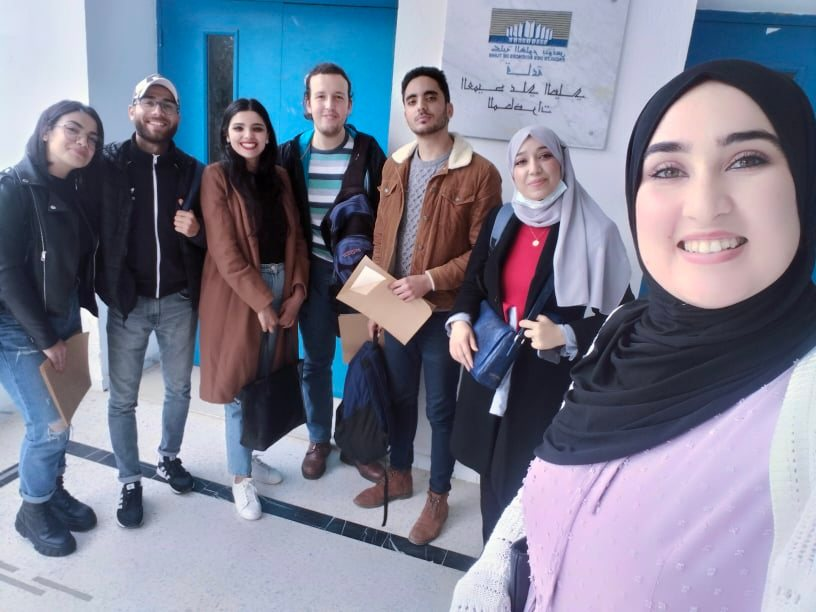mask_weared_incorrect: (506, 142, 565, 203)
without_mask: (643, 130, 791, 289), (404, 87, 451, 135), (54, 117, 100, 164), (135, 96, 181, 139), (228, 122, 269, 157), (309, 88, 347, 124)
